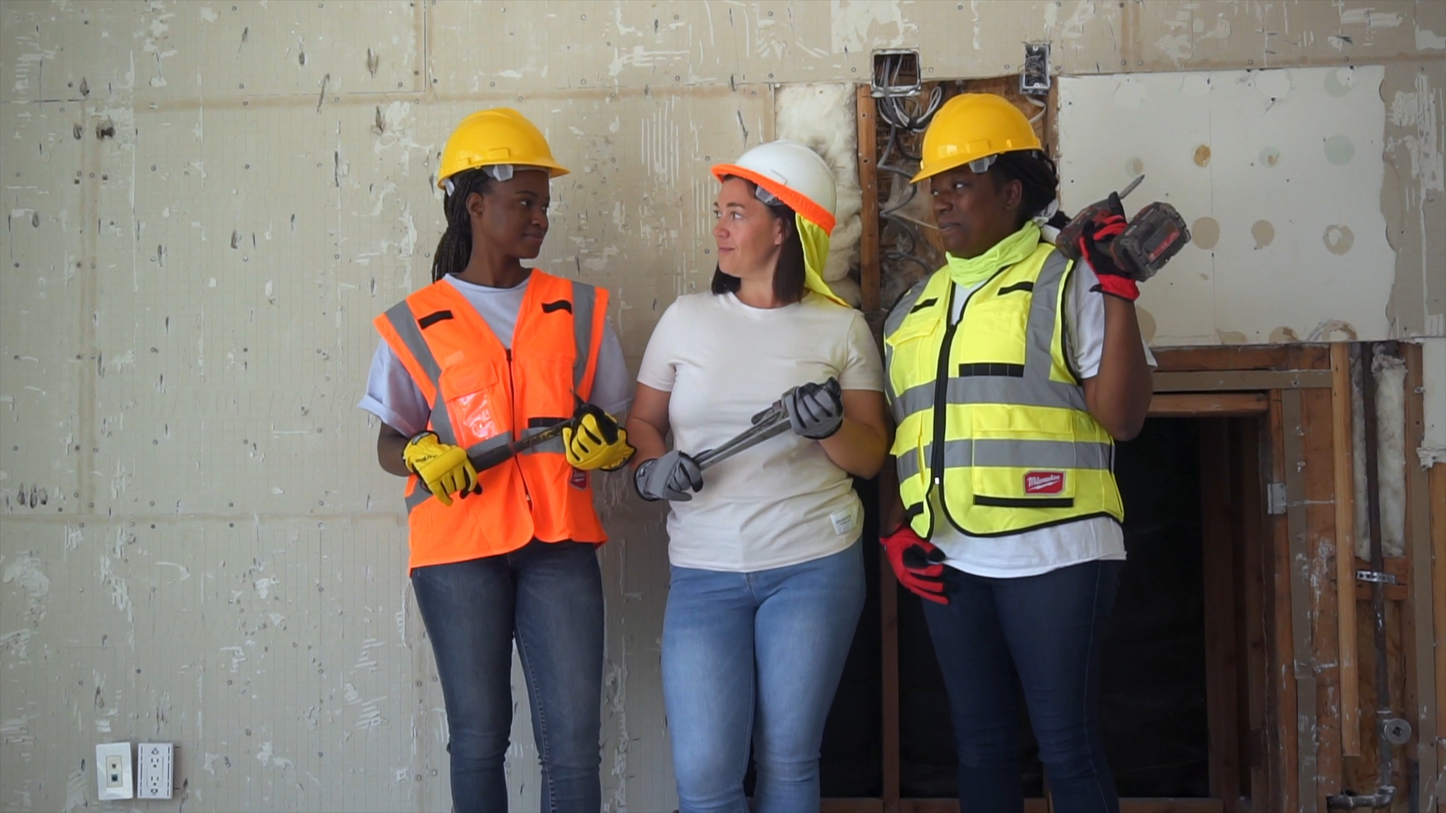gloves: (1055, 211, 1174, 300), (395, 423, 495, 513), (872, 518, 970, 592), (760, 369, 857, 443), (552, 407, 640, 475), (628, 445, 714, 512)
